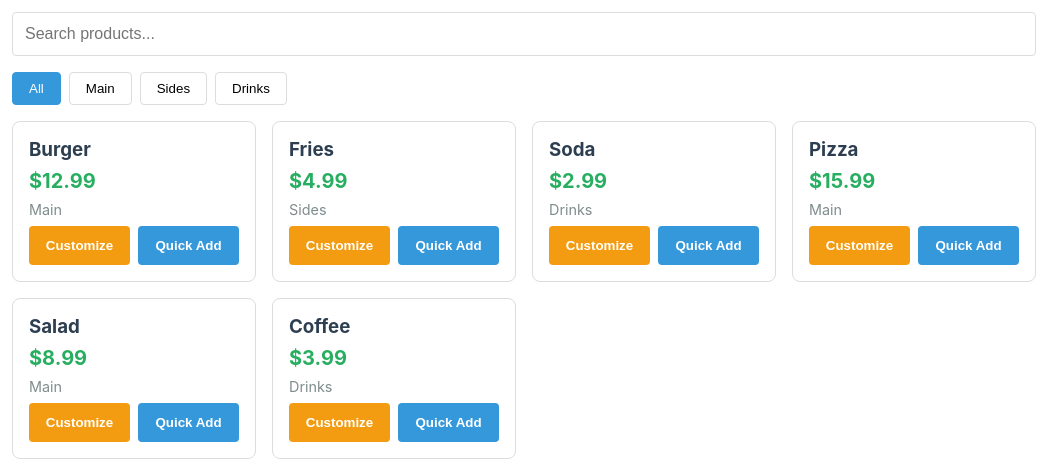
Test case: ProductCatalog Component › filters products by search term
Check: the heading "Burger" is shown, box [29,138,91,161]
Type "burger" into the field with placeholder "Search products..." at coordinates (524, 34), box [12,12,1036,56]
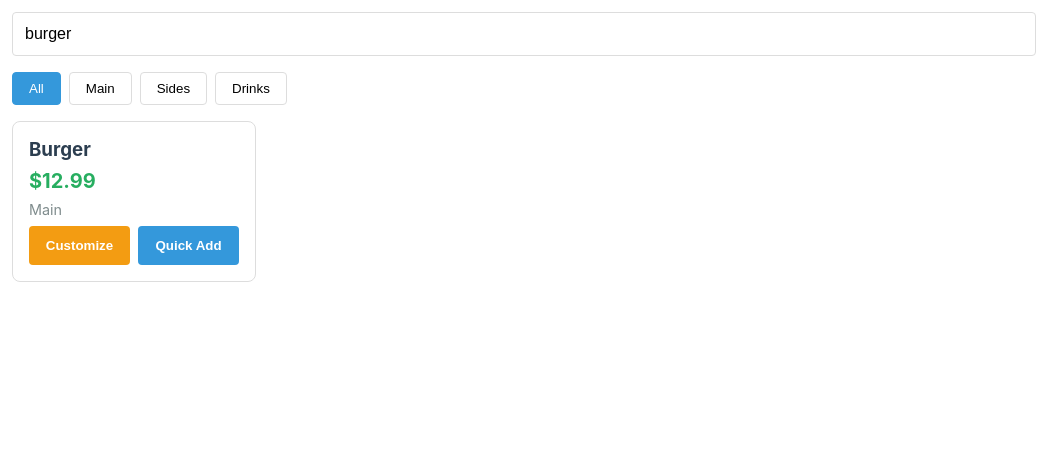
Check: the heading "Burger" is shown, box [29,138,91,161]
Check: the heading "Fries" is gone
